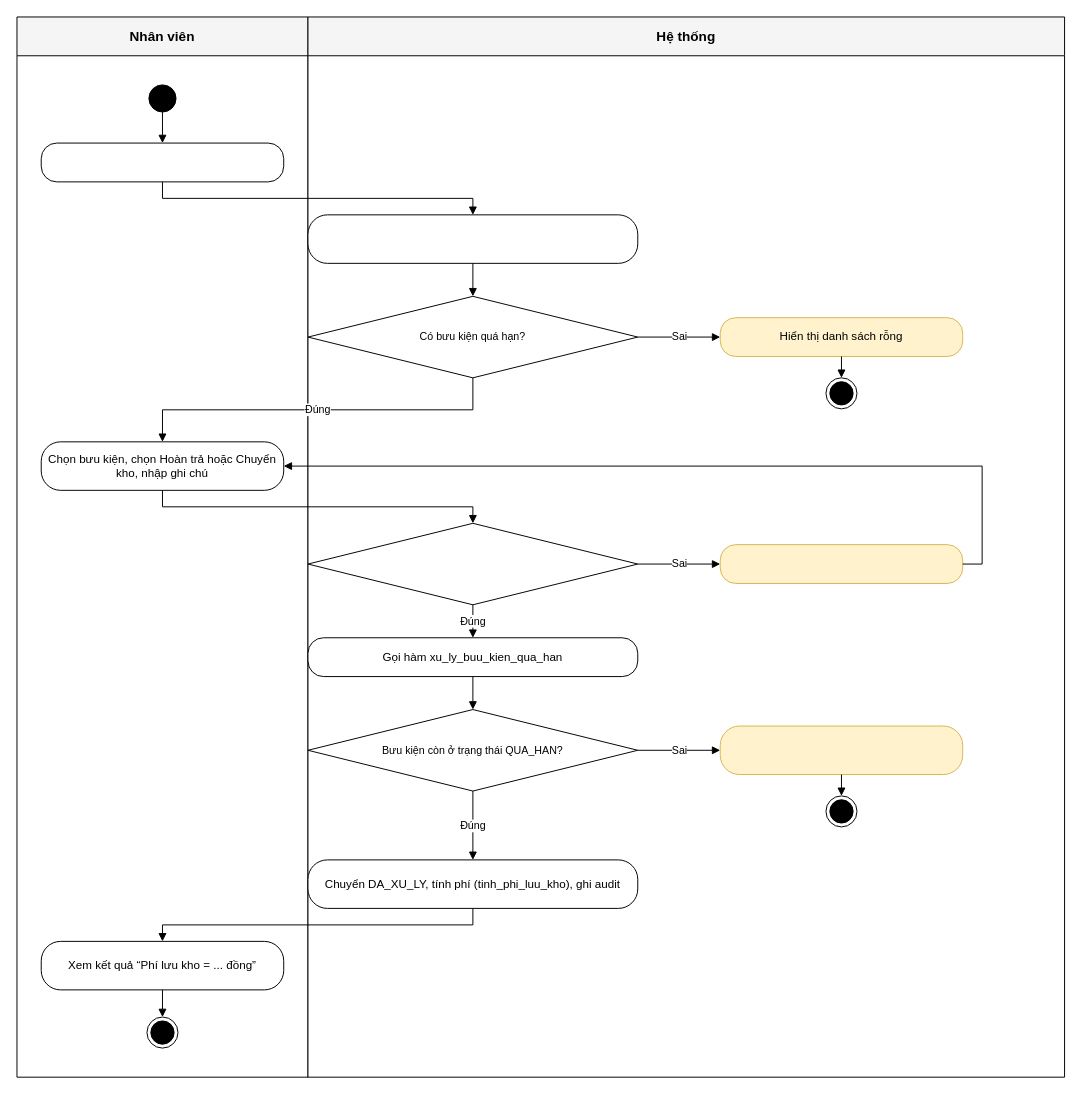
This 1082x1094 diagram has some shape labels left out. Here are the shapes that lost their labels. From the top down, the box of each, then its label:
(40, 142, 284, 182): Chọn tab “Quá hạn”
(307, 214, 638, 263): Hiển thị v_buu_kien_qua_han (nền: danh_dau_qua_han chạy mỗi 60 giây)
(307, 522, 638, 605): Hình thức là HOAN_TRA hoặc CHUYEN_KHO?
(719, 544, 963, 583): Báo lỗi, không xử lý
(719, 725, 963, 775): Trigger chặn đổi trạng thái sai luồng, báo lỗi và làm mới danh sách
